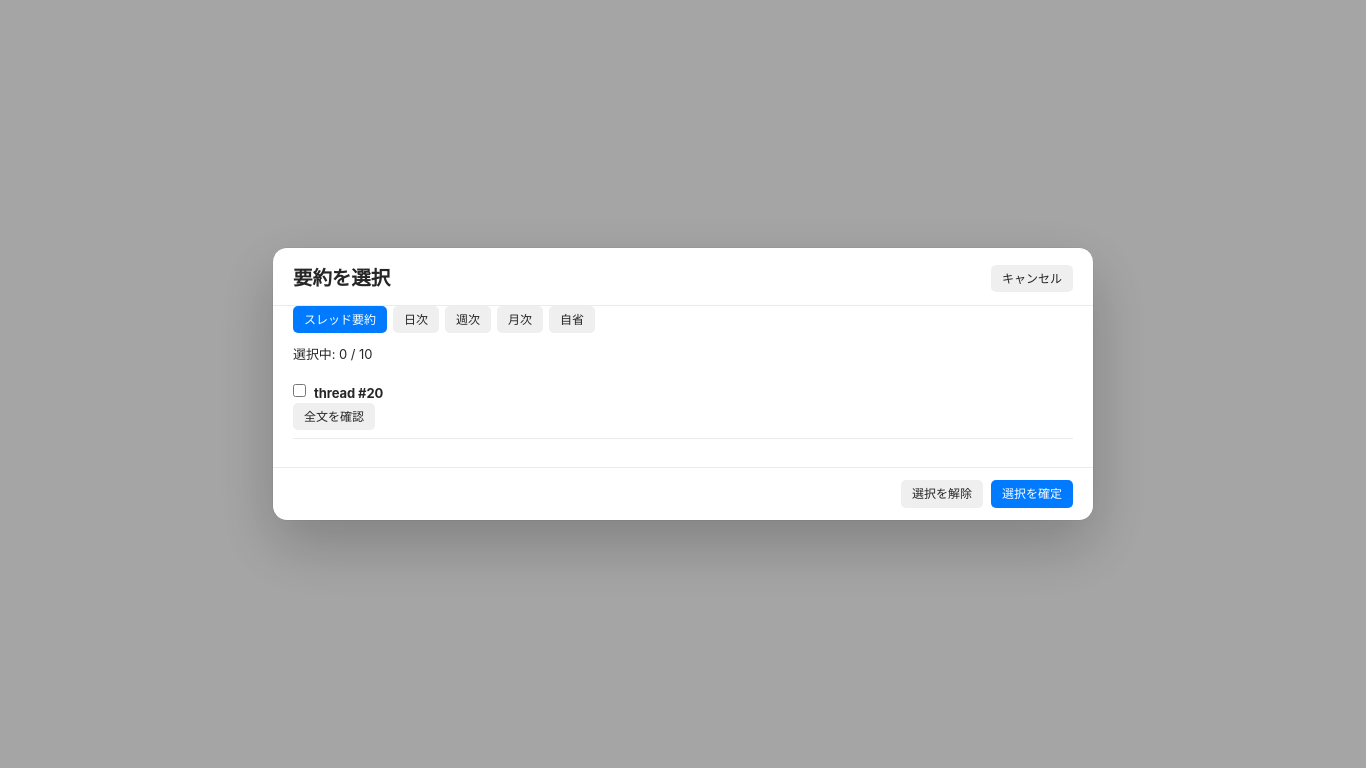
SummarySelectionModal › separates thread summaries from reflection in five tabs
Expected: the tab "スレッド要約" is shown, 293,306 -> 387,333
Expected: the text "thread #20" is shown, 314,384 -> 383,403
Click the tab "自省".
click(572, 319)  # box 549,306 -> 595,333
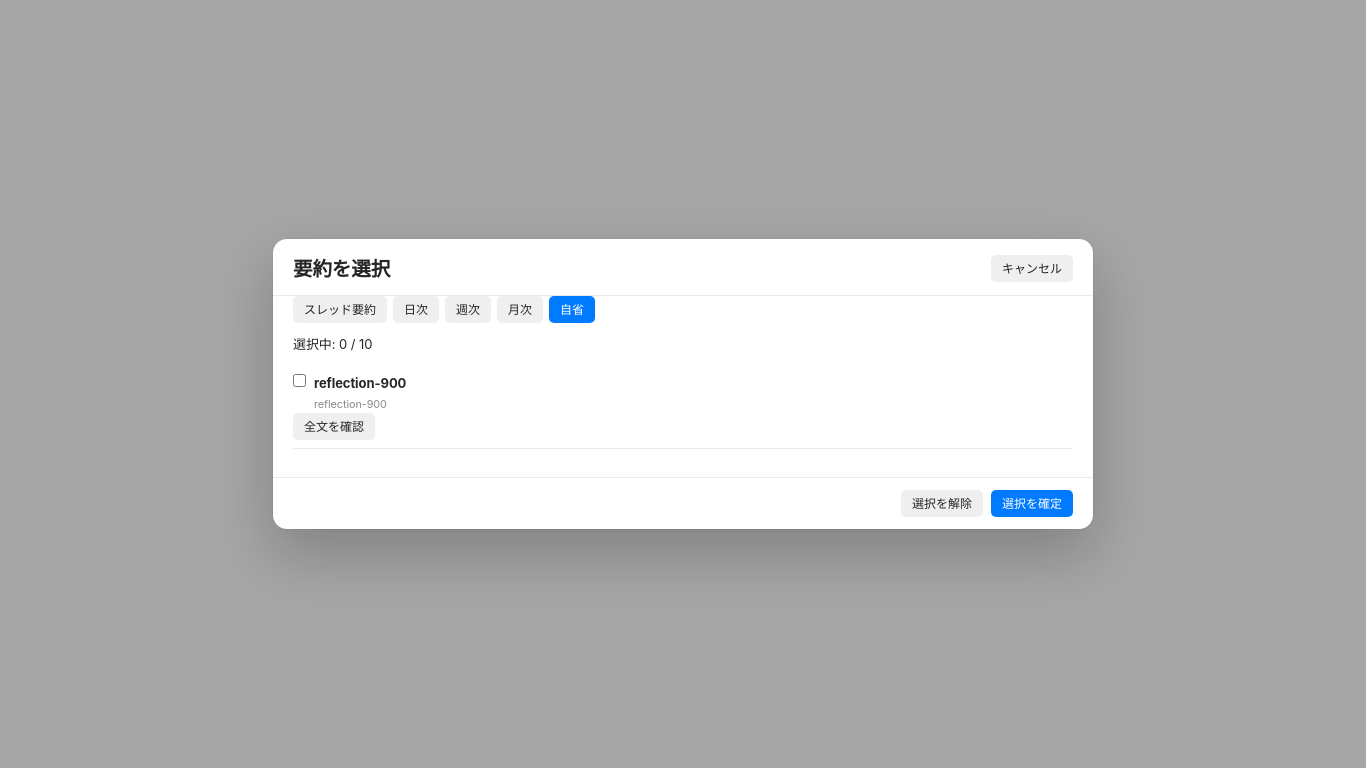
Expected: the text "thread #20" is gone
